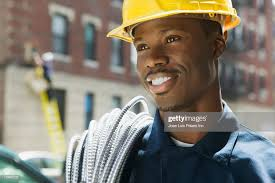Person_wearing_helmet: (110, 0, 237, 65)
